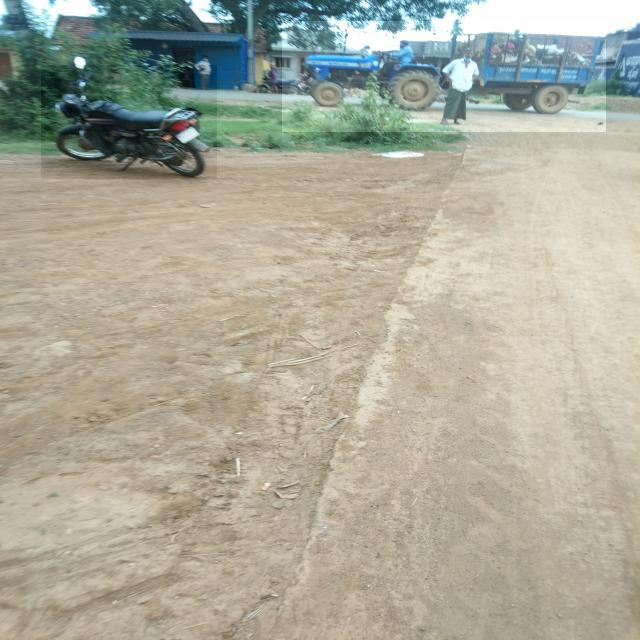Bike: (41, 65, 218, 179)
Tractot: (282, 21, 606, 132)
